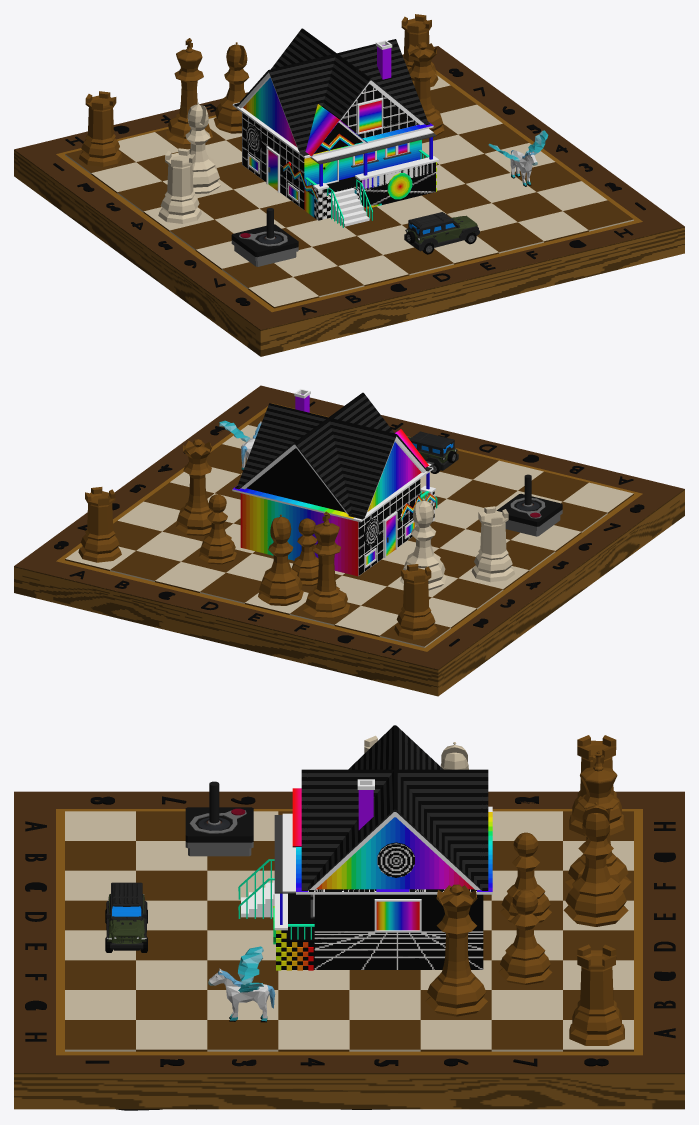
3 views of the same model, one above another, from view 1: azimuth 30°, elevation 25°; view 2: azimuth 150°, elevation 25°; view 3: azimuth 270°, elevation 25° (orthographic). The views are drawn at different scales.
Visible parts, largest first — view 1: Cube.002, Cube.1320, OBJRANDOM_JOYSTICK, VEHICLES_JEEP, ANIMAL_PEGASO; view 2: Cube.002, Cube.1320, OBJRANDOM_JOYSTICK, VEHICLES_JEEP, ANIMAL_PEGASO; view 3: Cube.002, Cube.1320, OBJRANDOM_JOYSTICK, VEHICLES_JEEP, ANIMAL_PEGASO.
Part boxes in pixels (bbox=[...]): Cube.002: bbox=[14, 14, 684, 356]; Cube.1320: bbox=[232, 28, 438, 227]; OBJRANDOM_JOYSTICK: bbox=[231, 208, 298, 266]; VEHICLES_JEEP: bbox=[404, 212, 479, 254]; ANIMAL_PEGASO: bbox=[488, 130, 548, 186]; Cube.002: bbox=[14, 385, 684, 696]; Cube.1320: bbox=[232, 389, 437, 576]; OBJRANDOM_JOYSTICK: bbox=[496, 474, 562, 536]; VEHICLES_JEEP: bbox=[407, 431, 458, 473]; ANIMAL_PEGASO: bbox=[219, 420, 261, 470]; Cube.002: bbox=[14, 735, 684, 1109]; Cube.1320: bbox=[238, 725, 492, 970]; OBJRANDOM_JOYSTICK: bbox=[185, 781, 253, 856]; VEHICLES_JEEP: bbox=[105, 882, 147, 952]; ANIMAL_PEGASO: bbox=[208, 946, 275, 1022].
Size of the model in its own units: 3981 by 1457 by 4012.
Materials: 36 (4 with a texture image).
